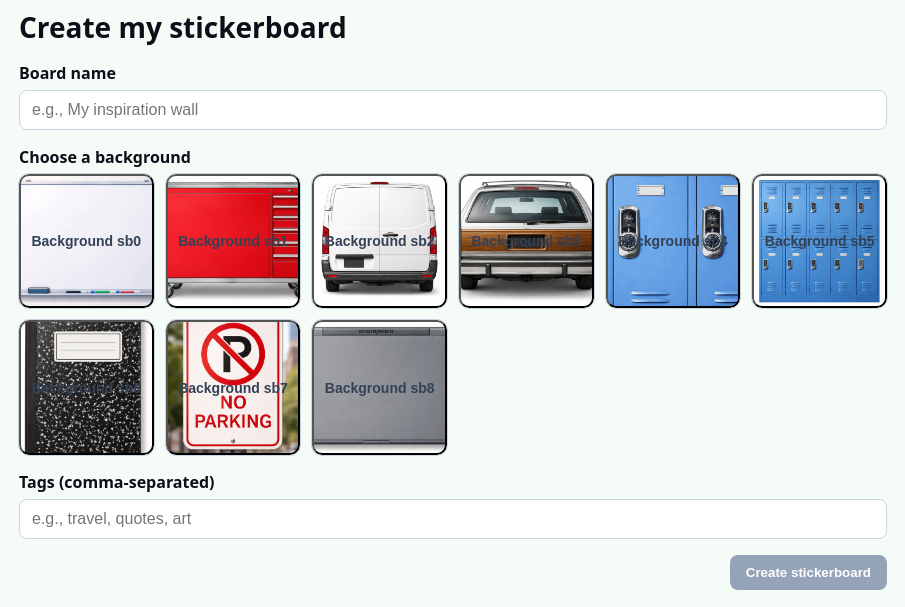
CreateStickerboard › should enable submit button after entering name and selecting background
Type "My New Board" into the field labelled "Board name". click: (453, 110)
box: [19,90,887,130]
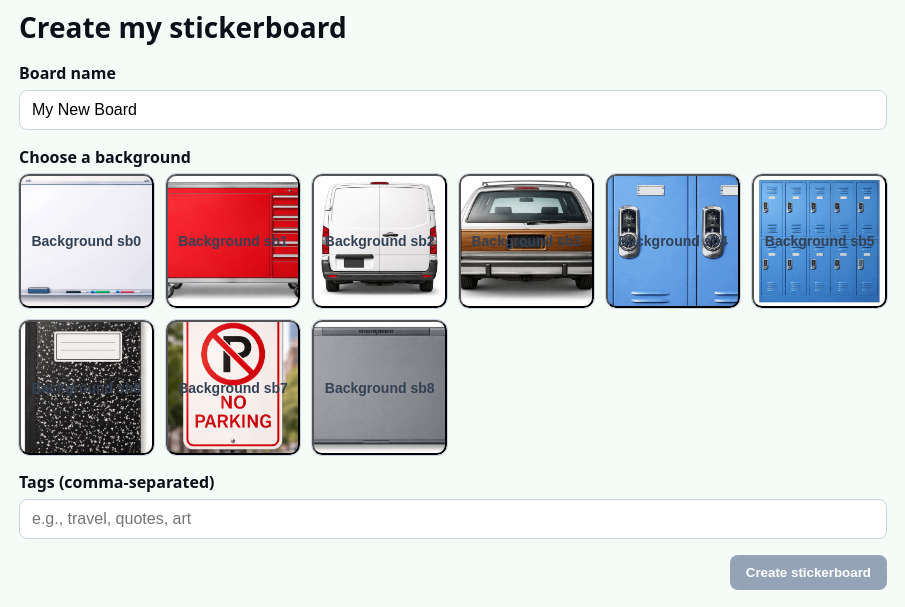
# Select the first background tile
Click the button "Background sb0". click: (86, 241)
box: [19,174,154,308]
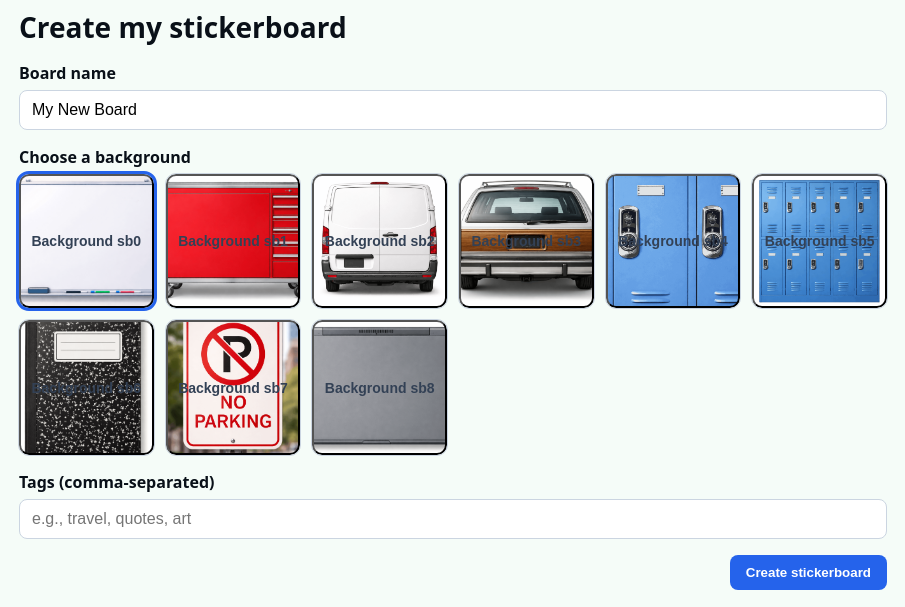
Expected: the button "Create stickerboard" is enabled, [730,555,887,590]
